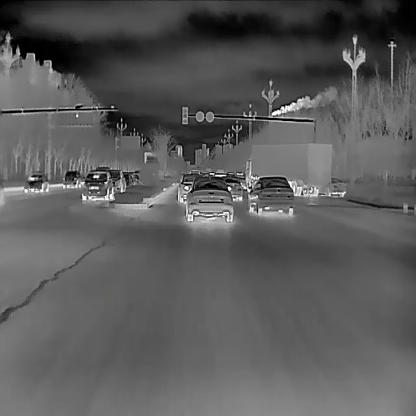car: (185, 176, 234, 222), (248, 175, 293, 215), (80, 171, 113, 204), (177, 174, 200, 201), (21, 172, 48, 192), (223, 175, 242, 200), (108, 168, 126, 194), (328, 176, 344, 197), (62, 171, 81, 188)
truck: (244, 140, 332, 196)
